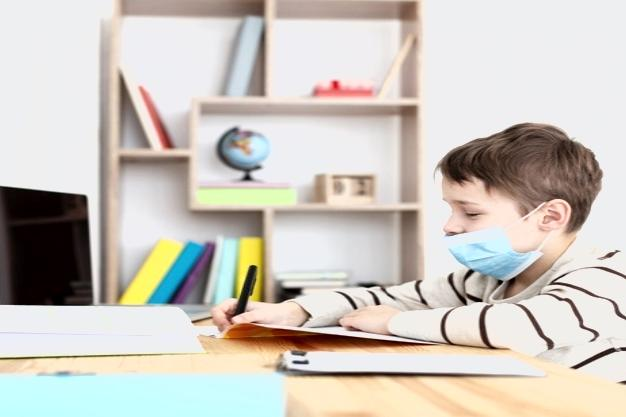mask_weared_incorrect: (435, 119, 599, 283)
